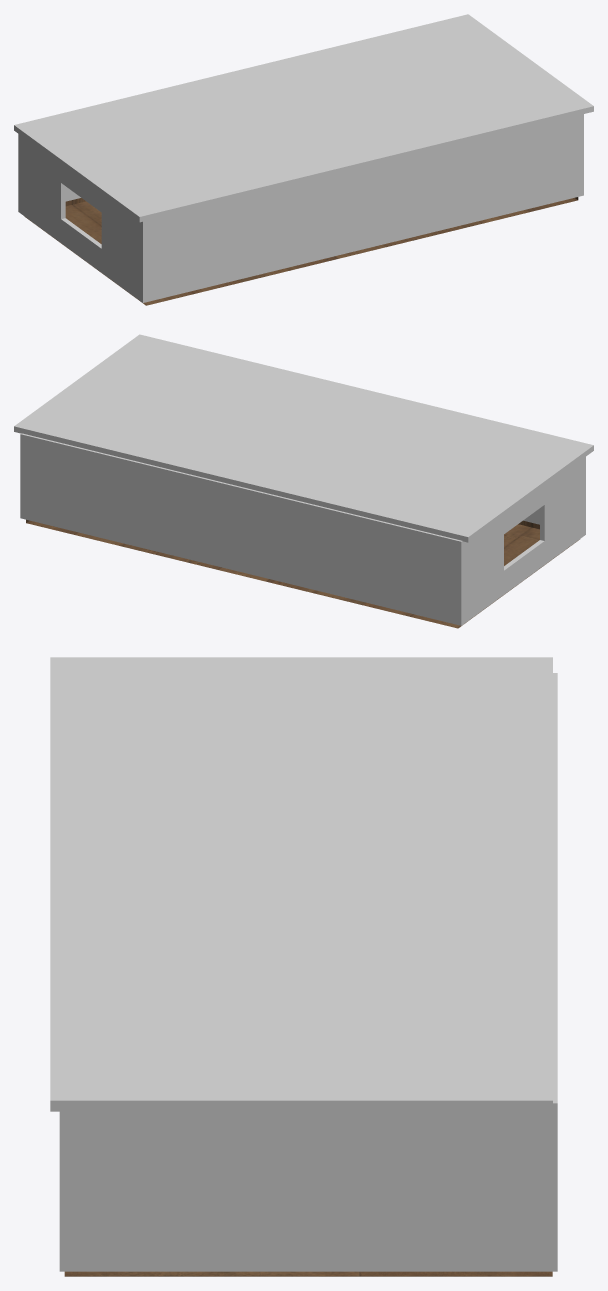
The picture shows the model from 3 angles, top to bottom: view 1: azimuth 30°, elevation 25°; view 2: azimuth 150°, elevation 25°; view 3: azimuth 270°, elevation 25°; orthographic projection. The views are drawn at different scales.
Parts seen in each view (by area): view 1: roof, wall_4:PIV, wall_1:PIV, Floor:PIV; view 2: roof, wall_2:PIV, wall_1:PIV, Floor:PIV; view 3: roof, wall_3:PIV, Floor:PIV, wall_2:PIV.
Boxes of the visible parts, left/top/right/bottom form: roof: left=14, top=14, right=593, bottom=222; wall_4:PIV: left=143, top=114, right=583, bottom=302; wall_1:PIV: left=18, top=134, right=142, bottom=302; Floor:PIV: left=24, top=197, right=578, bottom=305; roof: left=14, top=334, right=593, bottom=542; wall_2:PIV: left=20, top=434, right=461, bottom=625; wall_1:PIV: left=459, top=457, right=585, bottom=625; Floor:PIV: left=26, top=519, right=579, bottom=628; roof: left=50, top=657, right=552, bottom=1111; wall_3:PIV: left=59, top=1099, right=557, bottom=1271; Floor:PIV: left=64, top=1271, right=552, bottom=1276; wall_2:PIV: left=553, top=673, right=557, bottom=1102.
Bounding box in the file's own units: 25.99 × 5.13 × 12.57.
11 materials, 8 textured.
